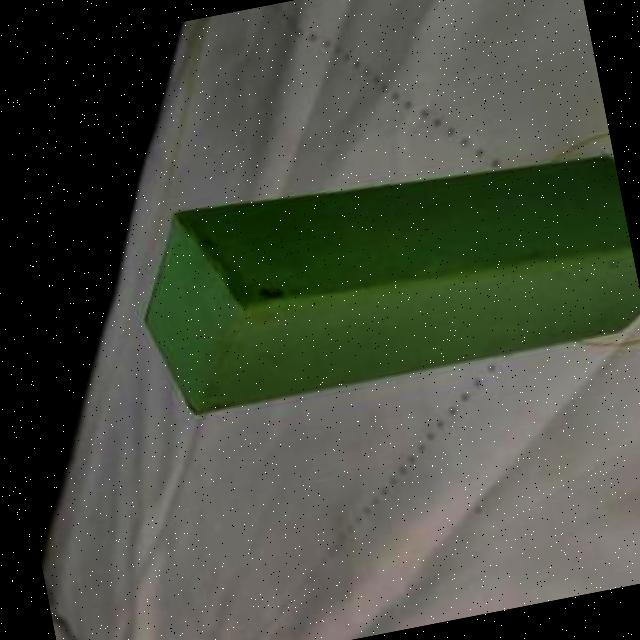greenbox: (119, 124, 640, 427)
